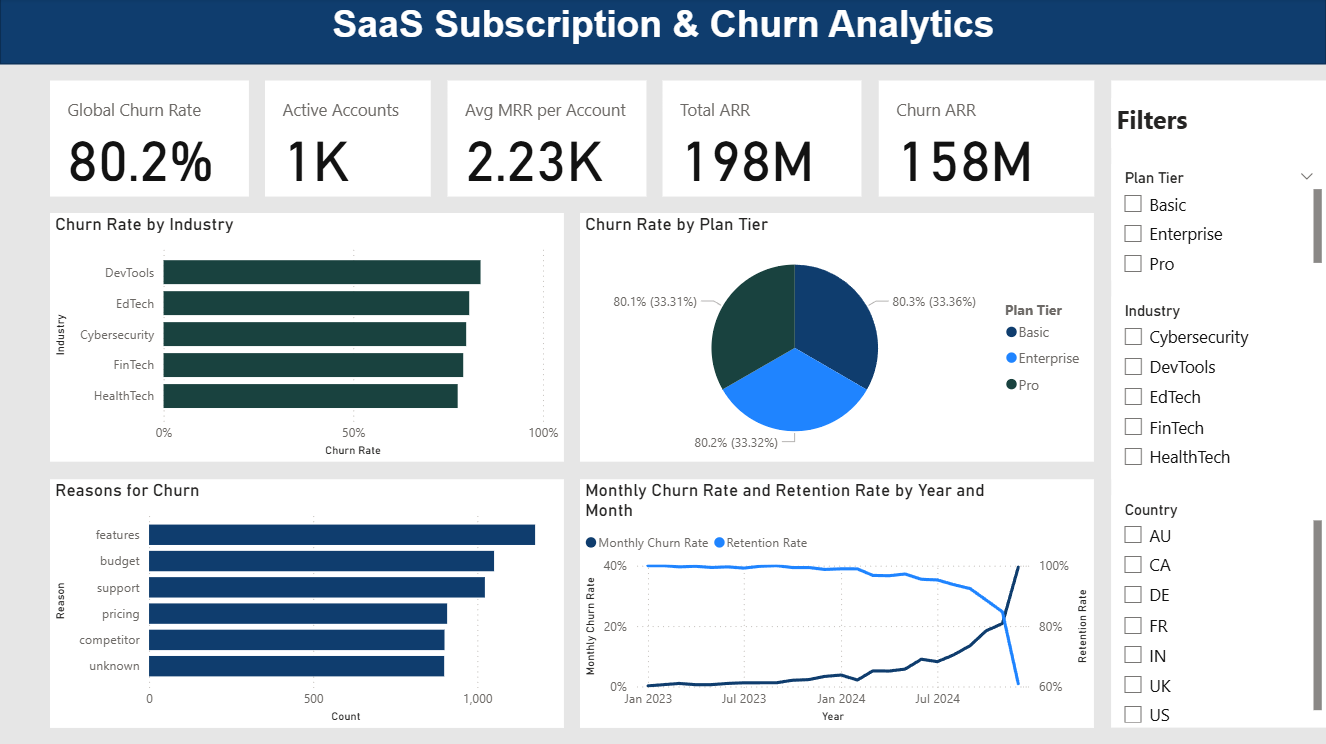

Layout of this report page (visuals, bound fields, positions):
{"tool":"powerbi","page":{"name":"Churn Analysis Dashboard","canvas":[1280,720],"ordinal":0},"visuals":[{"type":"textbox","box":[304,0,672,48],"z":0},{"type":"cardVisual","fields":{"Data":["final_churn_dataset.churn_rate"]},"box":[48,80,192,112],"z":1000},{"type":"cardVisual","fields":{"Data":["Date.Churn_ARR"]},"box":[848,80,208,112],"z":2000},{"type":"cardVisual","fields":{"Data":["final_churn_dataset.active_accounts"]},"box":[256,80,160,112],"z":3000},{"type":"cardVisual","fields":{"Data":["final_churn_dataset.avg_mrr"]},"box":[432,80,192,112],"z":4000},{"type":"cardVisual","fields":{"Data":["final_churn_dataset.total_arr"]},"box":[640,80,192,112],"z":5000},{"type":"pieChart","fields":{"Category":["final_churn_dataset.plan_tier_sub"],"Y":["final_churn_dataset.churn_rate"]},"box":[560,208,496,240],"z":6000},{"type":"barChart","title":"Churn Rate by Industry","fields":{"Y":["final_churn_dataset.churn_rate"],"Category":["final_churn_dataset.industry"]},"box":[48,208,496,240],"z":7000},{"type":"barChart","title":"Reasons for Churn","fields":{"Y":["CountNonNull(final_churn_dataset.account_id)"],"Category":["final_churn_dataset.reason_code"]},"box":[48,464,496,240],"z":8000},{"type":"lineChart","title":"Monthly Churn Rate and Retention Rate by Year and Month","fields":{"Y":["Date.Monthly_Churn_Rate"],"Category":["Date.Date.Variation.Date Hierarchy.Year","Date.Date.Variation.Date Hierarchy.Month"],"Y2":["Date.Retention_Rate"]},"box":[560,464,496,240],"z":9000},{"type":"shape","box":[0,0,1280,64],"z":10000},{"type":"textbox","box":[288,0,704,80],"z":11000},{"type":"shape","box":[1072,80,208,624],"z":12000},{"type":"slicer","fields":{"Values":["final_churn_dataset.plan_tier_sub"]},"box":[1072,160,208,112],"z":13000},{"type":"slicer","fields":{"Values":["final_churn_dataset.industry"]},"box":[1072,288,208,176],"z":14000},{"type":"slicer","fields":{"Values":["final_churn_dataset.country"]},"box":[1072,480,208,224],"z":15000},{"type":"textbox","box":[1072,96,176,48],"z":16000}]}

Visuals, with their boxes in screenshot pixels (x1, y1, x2, y2), scaled from the page's 1280x720 canvas onto the 1326x744 screenshot:
textbox: x1=315 y1=0 x2=1011 y2=50
cardVisual - final_churn_dataset.churn_rate: x1=50 y1=83 x2=249 y2=198
cardVisual - Date.Churn_ARR: x1=878 y1=83 x2=1094 y2=198
cardVisual - final_churn_dataset.active_accounts: x1=265 y1=83 x2=431 y2=198
cardVisual - final_churn_dataset.avg_mrr: x1=448 y1=83 x2=646 y2=198
cardVisual - final_churn_dataset.total_arr: x1=663 y1=83 x2=862 y2=198
pieChart - final_churn_dataset.plan_tier_sub x final_churn_dataset.churn_rate: x1=580 y1=215 x2=1094 y2=463
"Churn Rate by Industry" barChart: x1=50 y1=215 x2=564 y2=463
"Reasons for Churn" barChart: x1=50 y1=479 x2=564 y2=727
"Monthly Churn Rate and Retention Rate by Year and Month" lineChart: x1=580 y1=479 x2=1094 y2=727
shape: x1=0 y1=0 x2=1325 y2=66
textbox: x1=298 y1=0 x2=1028 y2=83
shape: x1=1111 y1=83 x2=1325 y2=727
slicer - final_churn_dataset.plan_tier_sub: x1=1111 y1=165 x2=1325 y2=281
slicer - final_churn_dataset.industry: x1=1111 y1=298 x2=1325 y2=479
slicer - final_churn_dataset.country: x1=1111 y1=496 x2=1325 y2=727
textbox: x1=1111 y1=99 x2=1293 y2=149
